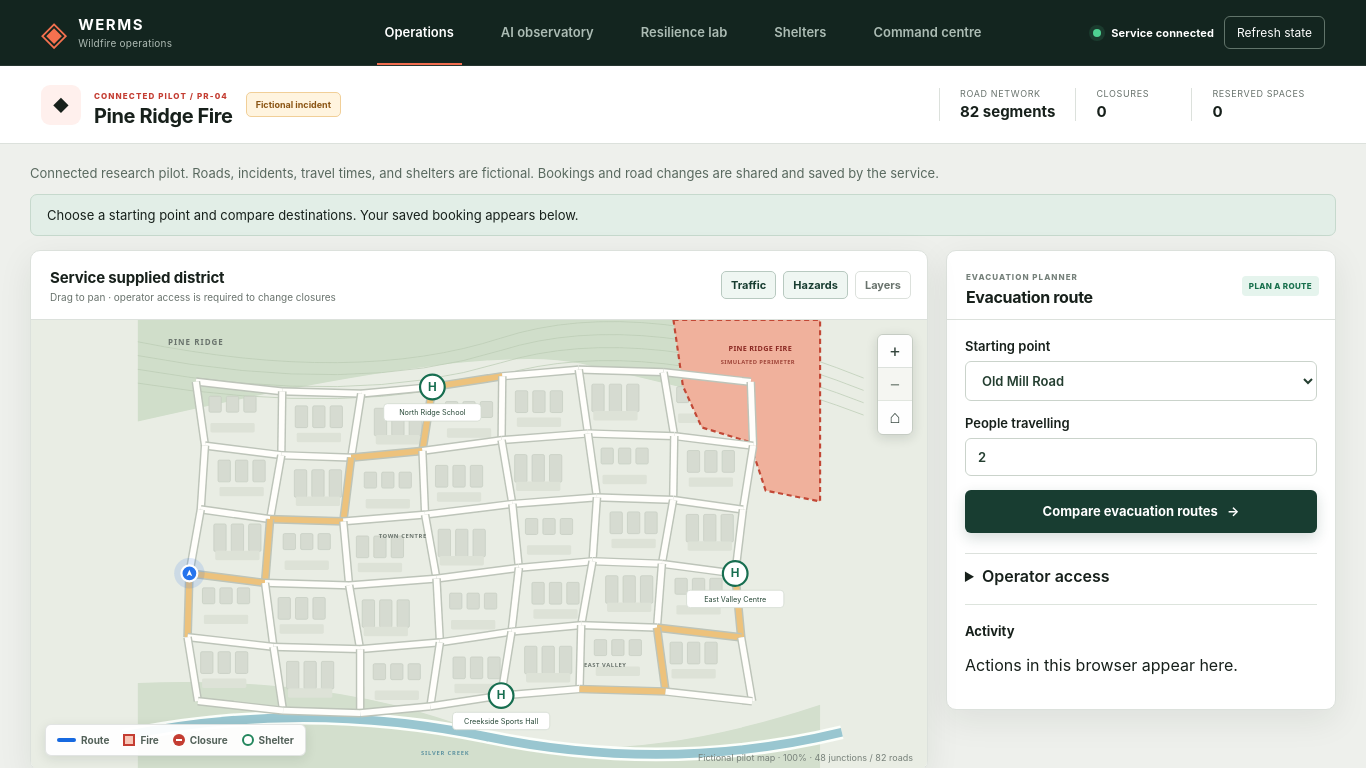
uses backend graph and separates preview from confirmed capacity
Expected: the heading "Service supplied district" is shown, top-left (50, 268), bottom-right (224, 286)
Click the button "Compare evacuation routes →" at {"x": 1141, "y": 511}, box top-left (965, 490), bottom-right (1317, 532)
(page scrolled)
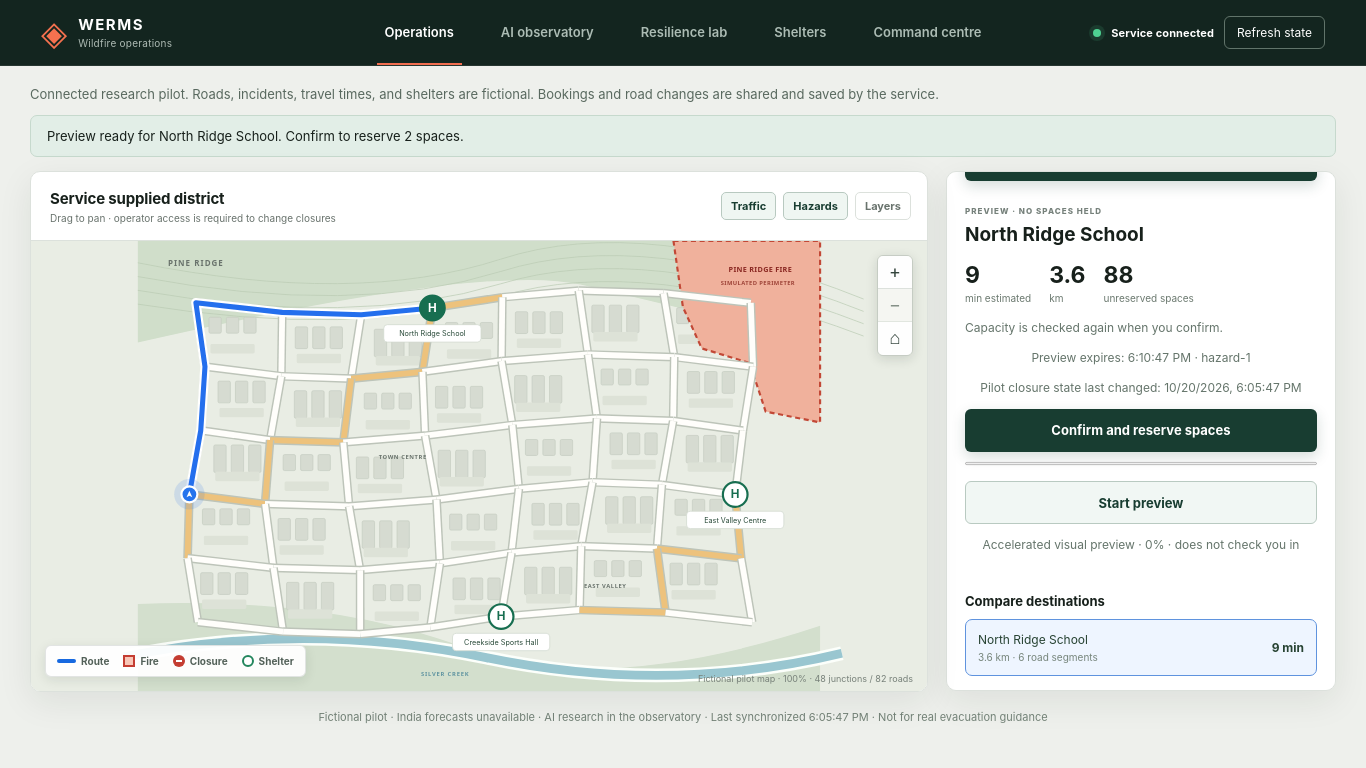
Click the button "Confirm and reserve spaces" at {"x": 1141, "y": 430}, box top-left (965, 408), bottom-right (1317, 452)
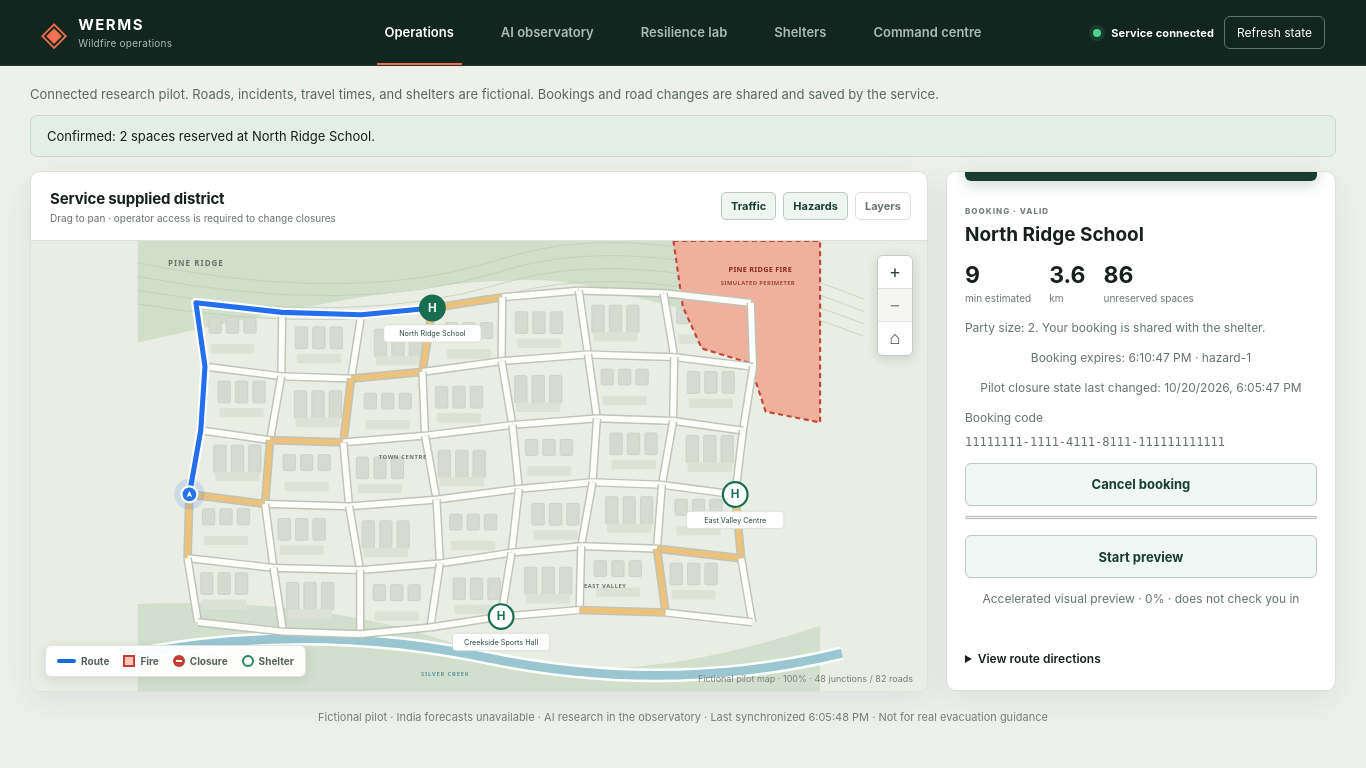
Now the button "Cancel booking" is shown, box top-left (965, 462), bottom-right (1317, 506)
Now the text "Party size: 2. Your booking is shared with the shelter." is shown, box top-left (965, 318), bottom-right (1317, 336)
